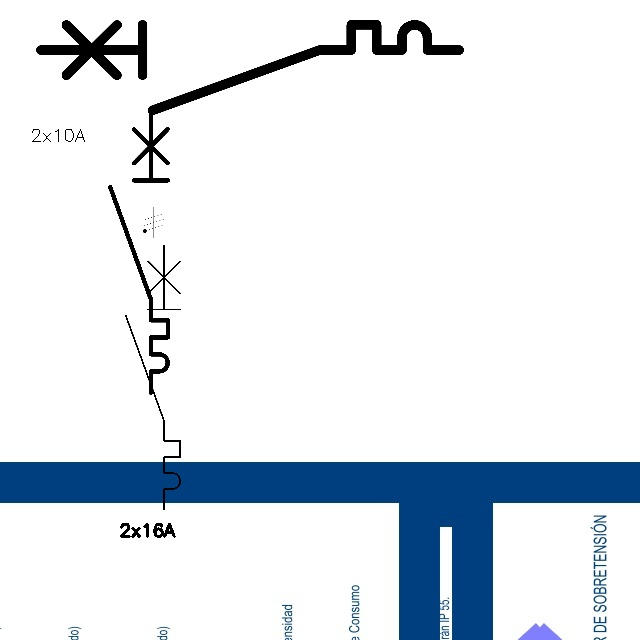interruptor_termomagnetico: (30, 14, 470, 121), (103, 105, 175, 400), (119, 238, 187, 516)
